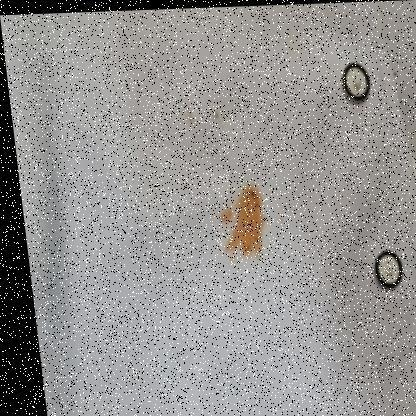kimchi: (205, 177, 274, 261)
